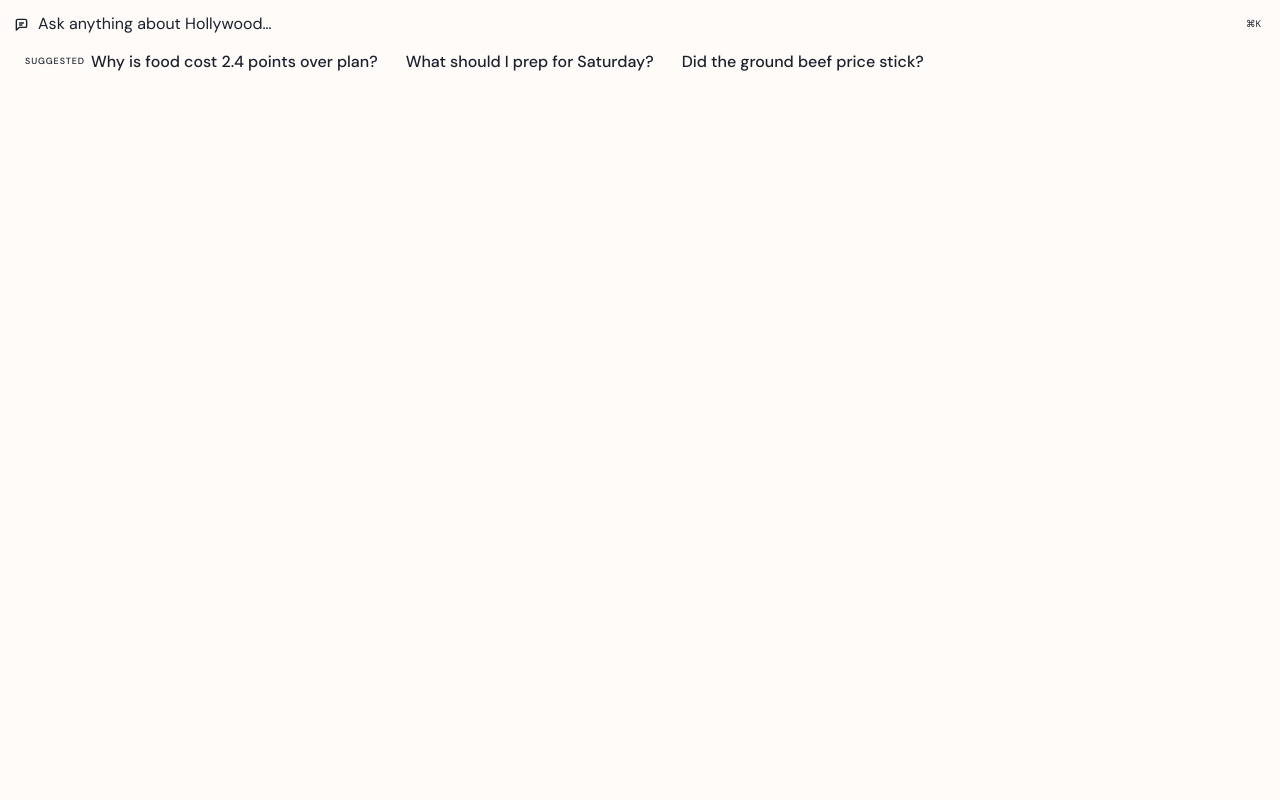
Scenario: AskBar + AskSurface — one surface, not two › the bar opens the EXISTING ⌘K surface, with an empty question
Click the button with class "askbar__in" at (155, 24), box [14,12,1266,36]
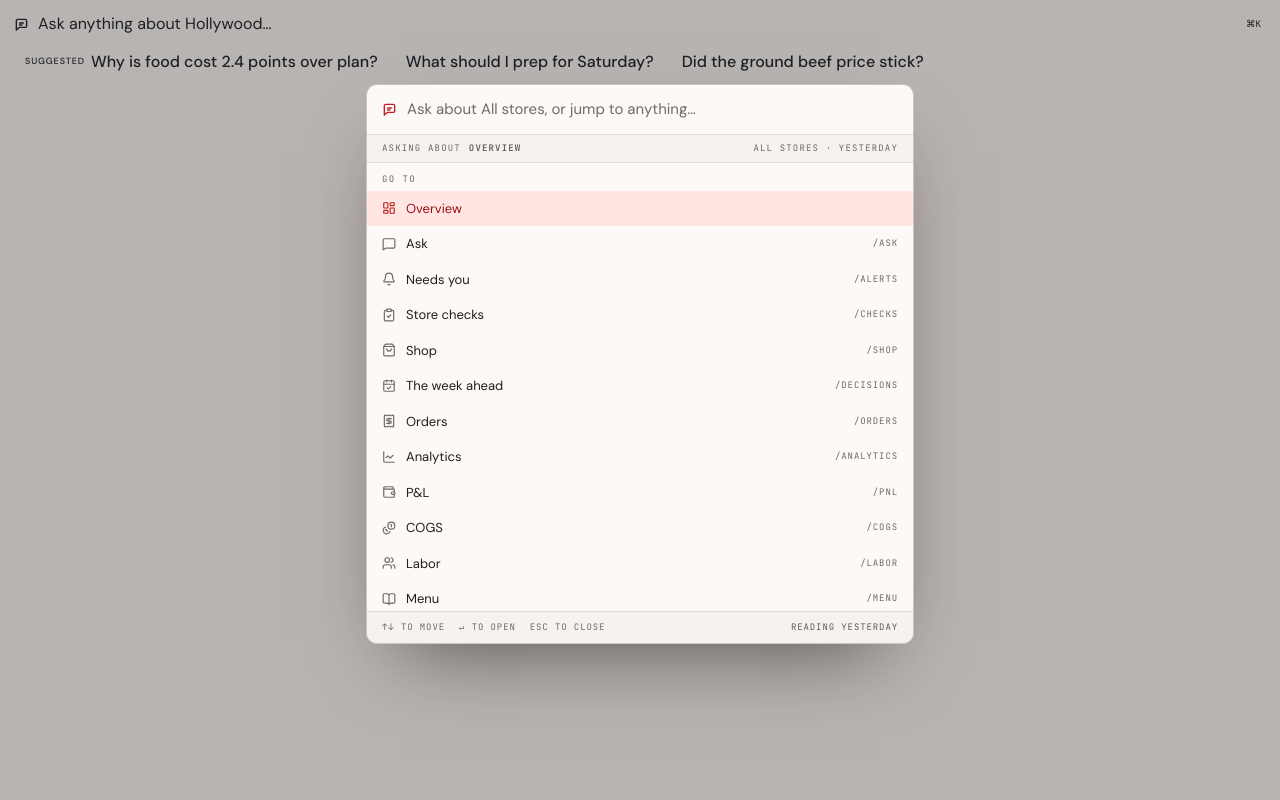
Expected: the dialog is shown, [366,84,914,644]
Expected: the field is empty, [407,98,898,120]
